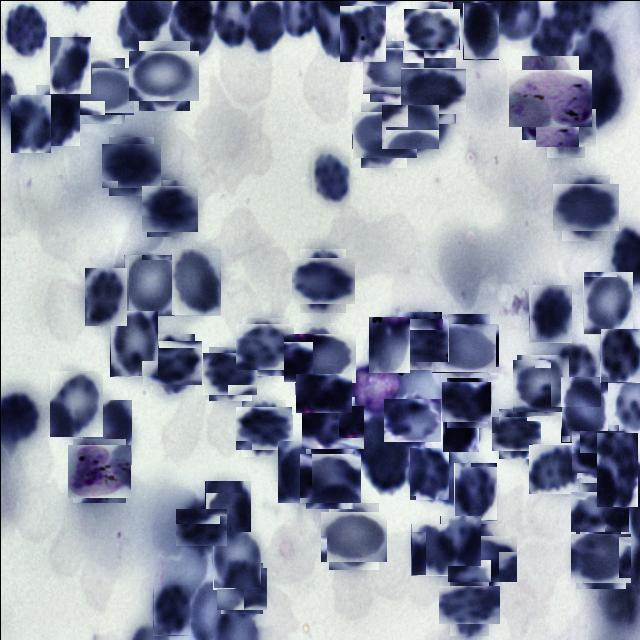red blood cell: (288, 328, 349, 388), (134, 45, 194, 105), (50, 370, 104, 436), (323, 506, 382, 565), (436, 318, 494, 377), (556, 178, 614, 236), (452, 529, 510, 587), (170, 248, 220, 315), (80, 399, 131, 464), (123, 253, 174, 316), (550, 342, 600, 406), (514, 356, 570, 413), (109, 310, 157, 376), (582, 271, 632, 334), (294, 252, 350, 308), (355, 106, 411, 162), (404, 62, 460, 118), (572, 530, 628, 586), (560, 376, 607, 442), (73, 62, 128, 118), (302, 449, 357, 505), (596, 432, 637, 506), (204, 479, 250, 544), (277, 440, 325, 502), (366, 44, 420, 98), (212, 530, 260, 588), (306, 401, 358, 454), (146, 336, 198, 388), (238, 320, 290, 372), (143, 182, 195, 234), (35, 84, 79, 145), (105, 140, 156, 192), (384, 100, 434, 152), (339, 5, 385, 61), (394, 314, 444, 365), (238, 402, 288, 452), (387, 394, 437, 444), (528, 442, 578, 492), (574, 486, 624, 536), (540, 102, 590, 152), (444, 580, 494, 630), (453, 462, 496, 520), (528, 284, 571, 342), (2, 2, 46, 58), (49, 36, 92, 93), (406, 4, 456, 53), (84, 267, 126, 325), (10, 94, 50, 152), (299, 369, 347, 417), (368, 316, 409, 372), (206, 349, 253, 397), (410, 523, 453, 575), (599, 328, 640, 382), (574, 426, 620, 474), (218, 564, 264, 611), (408, 447, 448, 500), (439, 515, 480, 566), (444, 378, 489, 424), (462, 2, 498, 59), (310, 151, 349, 203), (178, 504, 223, 548), (152, 584, 190, 635), (494, 412, 536, 454), (209, 355, 249, 395), (442, 409, 478, 451)
trophozoite: (514, 61, 584, 132), (69, 440, 128, 500)
